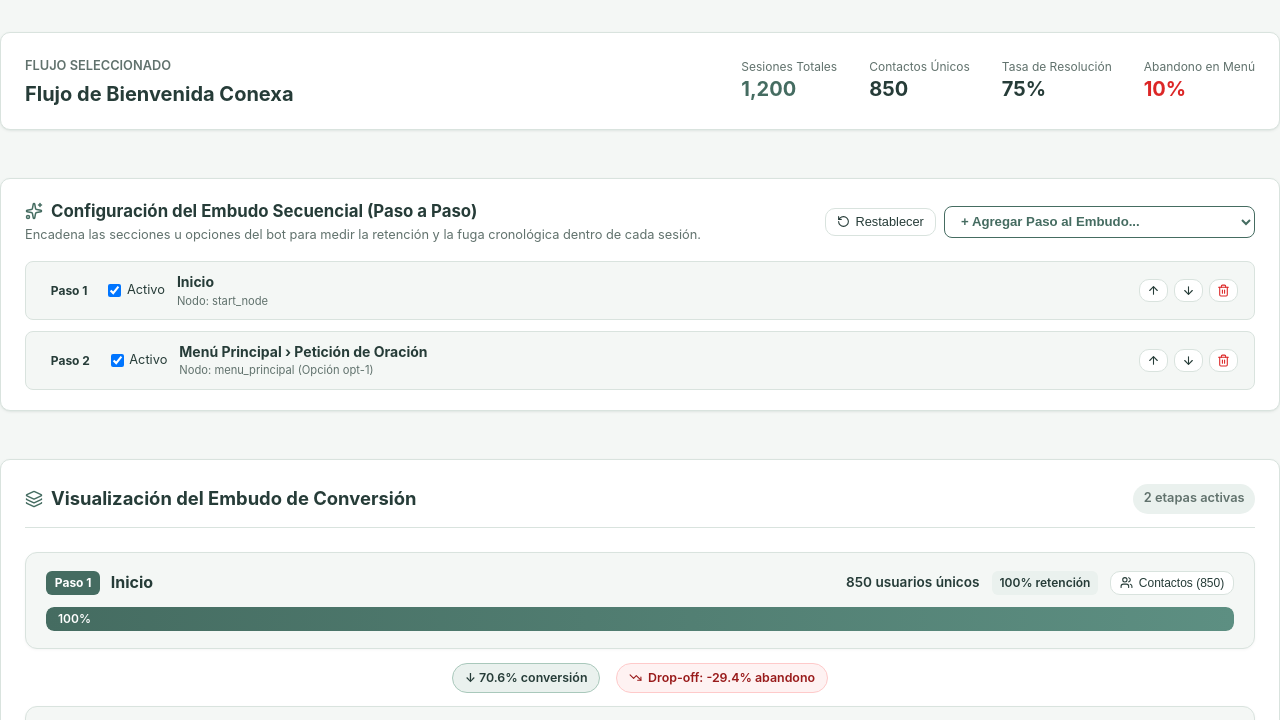
Test: DashboardsView & Analytics Tabs (Fase 1 y Fase 2) › configures sequential funnel: adds step, toggles active switch, and renders real funnel drop-off
Later steps or results of the test are not shown.
(page scrolled)
Expected: the element with test id "funnel-step-card-1" is shown, [25,552,1255,649]
Expected: the text "850 usuarios únicos" is shown, [846,573,980,593]
Toggle Step 2 off
Step 1. Click the checkbox with test id "step-toggle-2" → (117, 360), box [111,354,124,367]
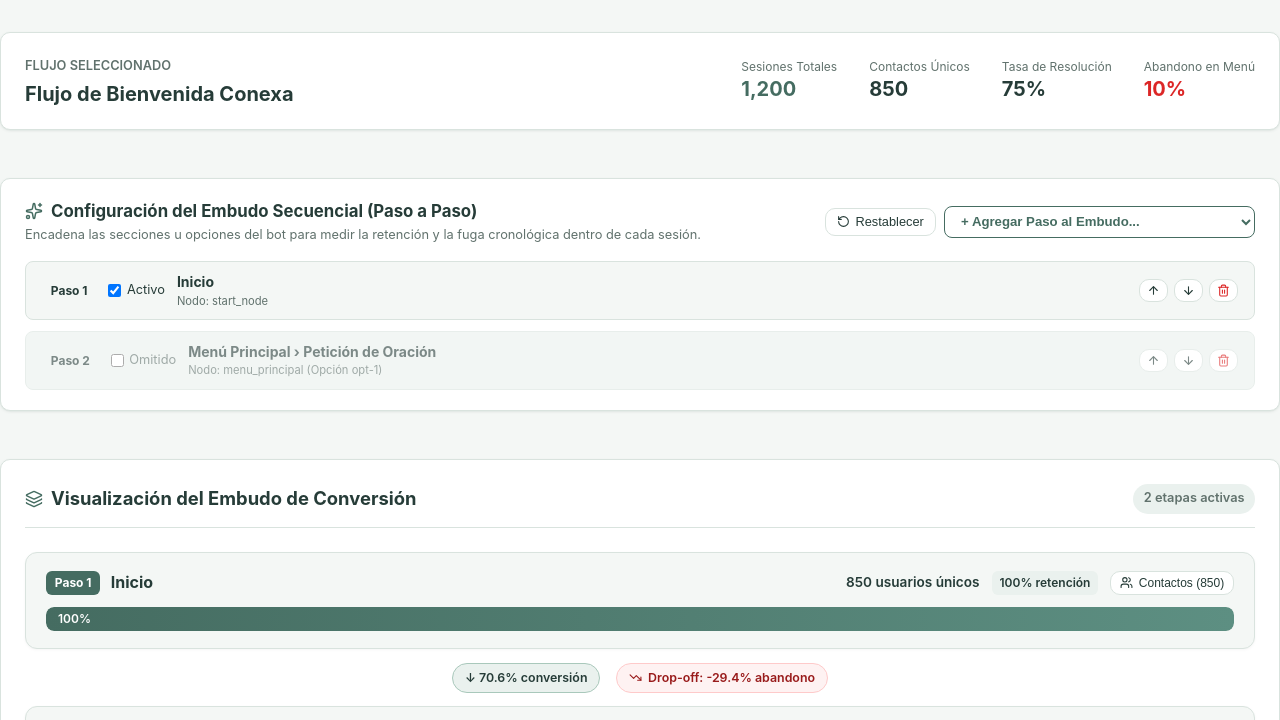
Now the checkbox with test id "step-toggle-2" is not checked, box [111,354,124,367]
